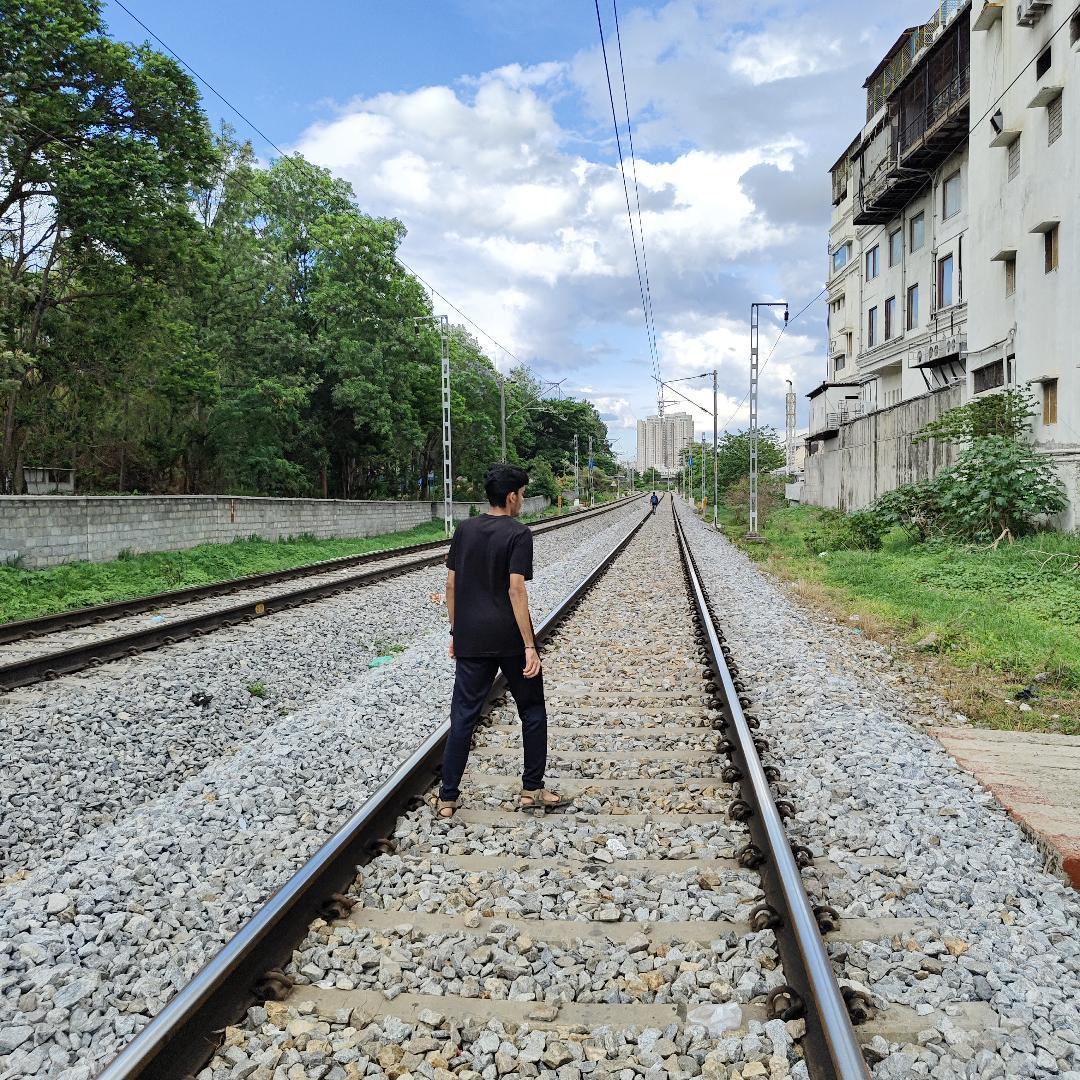standing: (450, 456, 592, 820)
